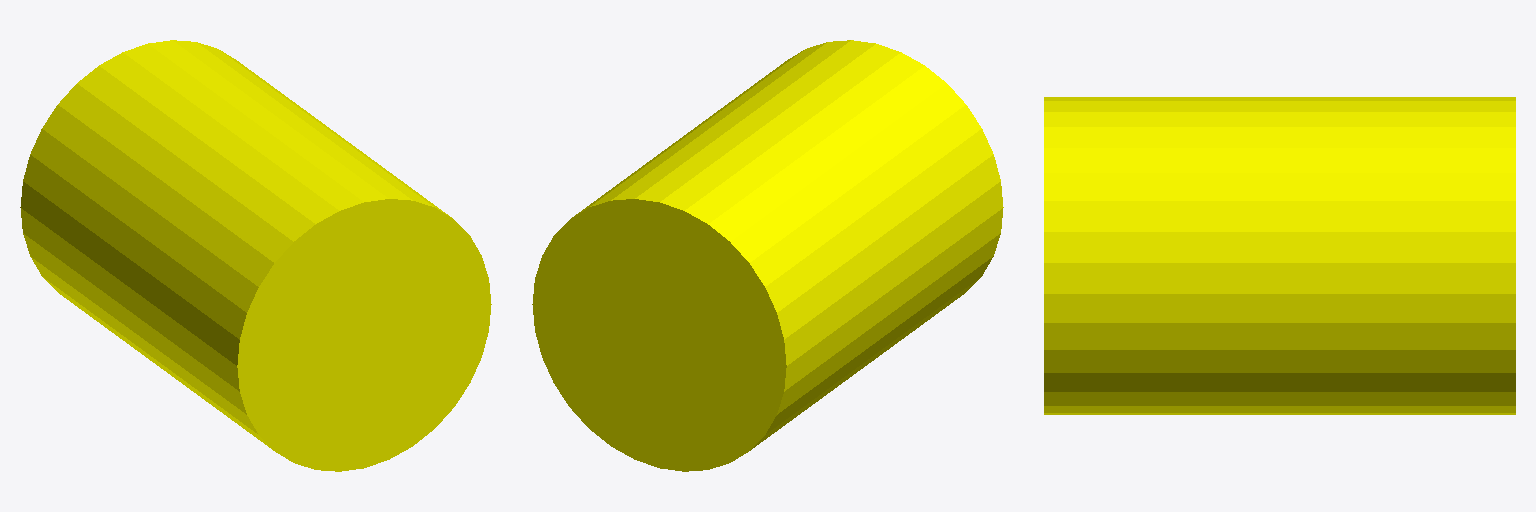
The robot description file, URDF, robot "cube":
<?xml version="1.0"?>
 <robot name="cube">
   <material name="purple">
     <color rgba="0.57647059 0.43921569 0.85882353 1"/>
   </material>
   <material name="yellow">
     <color rgba="1.0 1.0 0.0 1"/>
   </material>
   <link name="base_link">
     <visual>
       <geometry>
         <cylinder length="0.1000" radius="0.033829689025878906"/>
         
       </geometry>
       <material name="yellow"/>
       <origin xyz="0 0 0" rpy="1.5707963 0 0"/>
     </visual>
     <inertial>
       <mass value="0"/>
       <inertia ixx="1.0" ixy="0.0" ixz="0.0" iyy="1.0" iyz="0.0" izz="1.0"/>
     </inertial>
     
   </link>
 </robot>

--- Facts derived from the render (not from the file) ---
Views: 3 orthographic renders of the robot side by side, from view 1: azimuth 30°, elevation 25°; view 2: azimuth 150°, elevation 25°; view 3: azimuth 270°, elevation 25°.
Robot: cube — 1 links, 0 joints (none); root link base_link; default pose: every joint at zero.
Links seen in each view (by area): view 1: base_link; view 2: base_link; view 3: base_link.
Boxes of the visible links, <box> form: base_link: <box>20,40,491,471</box>; base_link: <box>532,40,1003,471</box>; base_link: <box>1044,97,1515,414</box>.
Bounding box of the posed robot: 0.0677 × 0.1 × 0.0677 m (x, y, z).
Geometry: primitives only (box / cylinder / sphere), no mesh files.